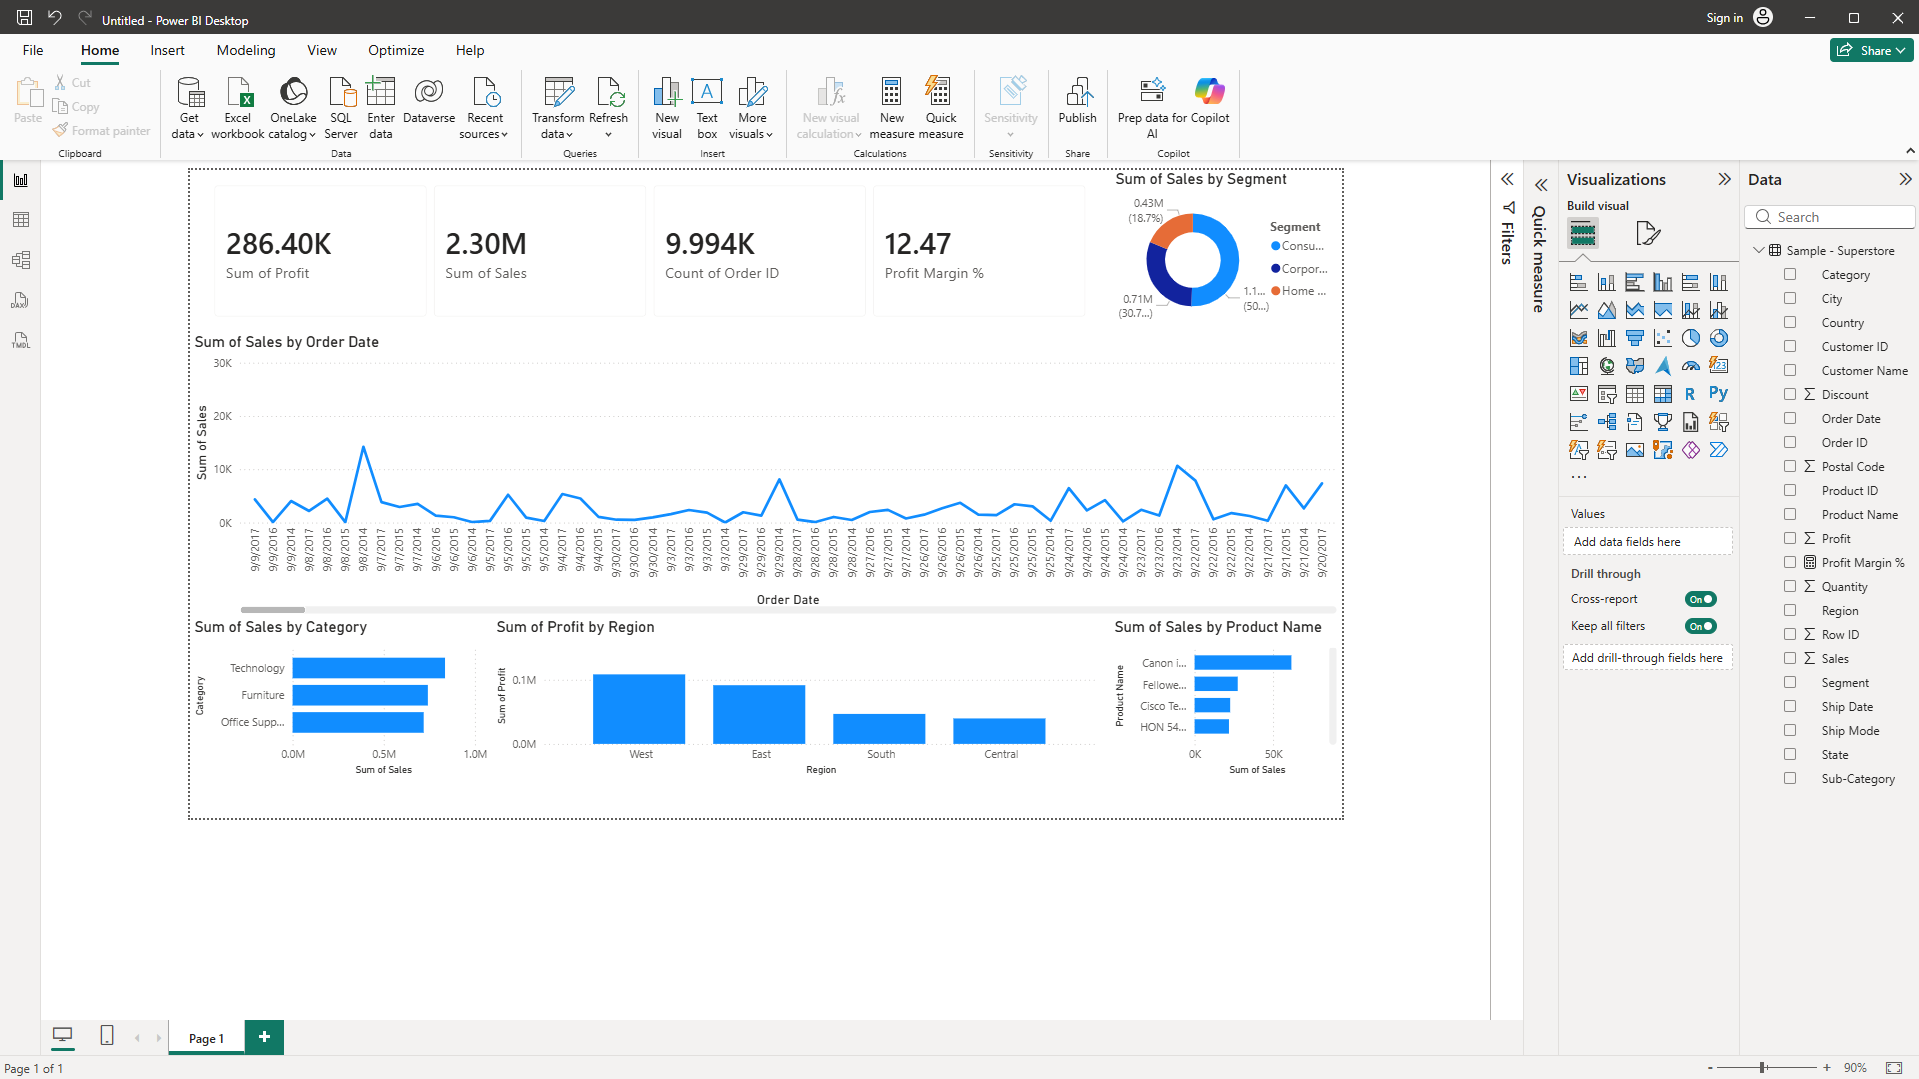

The page's visual inventory and layout, read from the dashboard file:
{"tool":"powerbi","page":{"name":"Page 1","canvas":[1280,720],"ordinal":0},"visuals":[{"type":"cardVisual","fields":{"Data":["Sum(Sample - Superstore.Profit)","Sum(Sample - Superstore.Sales)","CountNonNull(Sample - Superstore.Order ID)","Sample - Superstore.Profit Margin %"]},"box":[9.7,0,1002.8,180.9],"z":0},{"type":"lineChart","fields":{"Y":["Sum(Sample - Superstore.Sales)"],"Category":["Sample - Superstore.Order Date"]},"box":[0,181.1,1278.9,316.7],"z":1000},{"type":"clusteredBarChart","fields":{"Category":["Sample - Superstore.Category"],"Y":["Sum(Sample - Superstore.Sales)"]},"box":[0,497.8,335.6,178.9],"z":2000},{"type":"clusteredColumnChart","fields":{"Category":["Sample - Superstore.Region"],"Y":["Sum(Sample - Superstore.Profit)"]},"box":[335.6,497.8,677.8,178.9],"z":3000},{"type":"donutChart","fields":{"Category":["Sample - Superstore.Segment"],"Y":["Sum(Sample - Superstore.Sales)"]},"box":[1023,0,257,181],"z":4000},{"type":"barChart","fields":{"Category":["Sample - Superstore.Product Name"],"Y":["Sum(Sample - Superstore.Sales)"]},"box":[1022.2,497.8,256.7,178.9],"z":5000}]}

Visuals, with their boxes on the page's 1280x720 design canvas (x1, y1, x2, y2). These are canvas units, not pixel positions in the 1919x1079 screenshot, which may show the page scaled, cropped or inside an application window:
cardVisual - Sum(Sample - Superstore.Profit) x Sum(Sample - Superstore.Sales): pyautogui.locateOnScreen(10, 0, 1012, 181)
lineChart - Sum(Sample - Superstore.Sales) x Sample - Superstore.Order Date: pyautogui.locateOnScreen(0, 181, 1279, 498)
clusteredBarChart - Sample - Superstore.Category x Sum(Sample - Superstore.Sales): pyautogui.locateOnScreen(0, 498, 336, 677)
clusteredColumnChart - Sample - Superstore.Region x Sum(Sample - Superstore.Profit): pyautogui.locateOnScreen(336, 498, 1013, 677)
donutChart - Sample - Superstore.Segment x Sum(Sample - Superstore.Sales): pyautogui.locateOnScreen(1023, 0, 1280, 181)
barChart - Sample - Superstore.Product Name x Sum(Sample - Superstore.Sales): pyautogui.locateOnScreen(1022, 498, 1279, 677)
